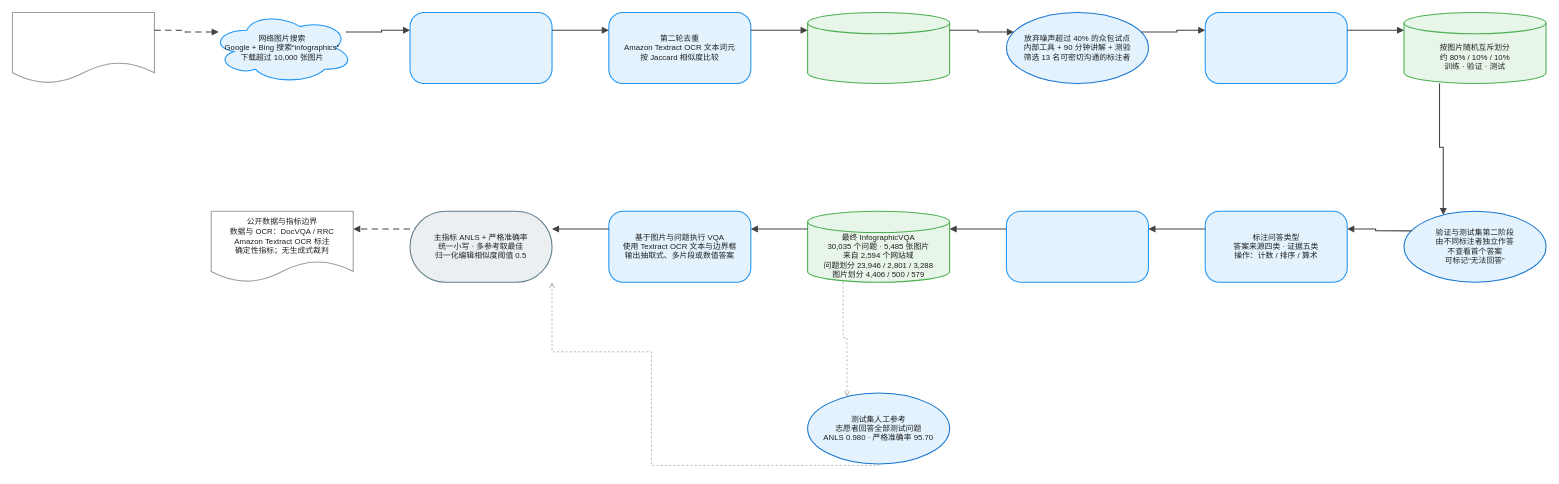
This 1559x484 diagram has some shape labels left out. Here are the shapes that lost their labels. From the top down, the box of each, then its label:
(12, 12, 155, 84): 主要证据与稳定发布入口 arXiv:2104.12756v2 WACV 2022 · DocVQA / RRC
(409, 12, 552, 84): 感知哈希第一轮去重 移除近 2,000 张重复图片
(807, 12, 950, 84): 标注候选池 约 7,000 张多样信息图
(1204, 12, 1347, 84): 第一阶段标注 可拒绝不适合的图片 创建问题与答案对 超过 3 万题后停止
(1006, 210, 1149, 282): 质量与答案规则 移除 1.9% 无法回答题 保留小写去重后的参考答案 多片段答案接受任意排列
